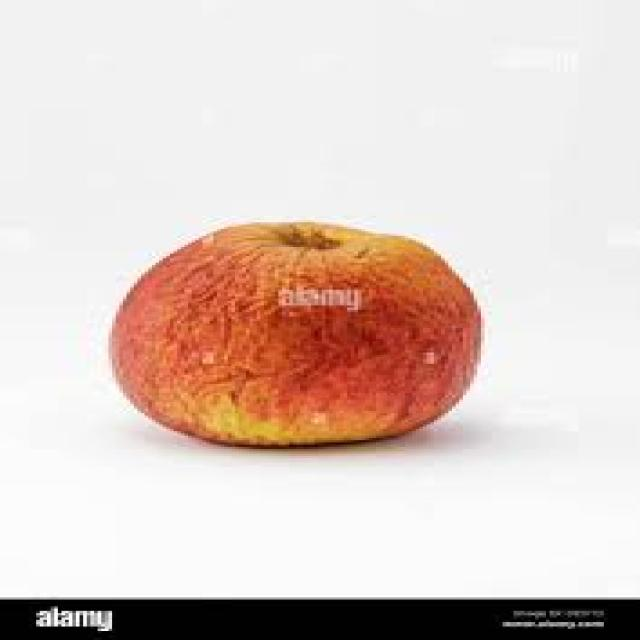overripe: (106, 215, 491, 453)
